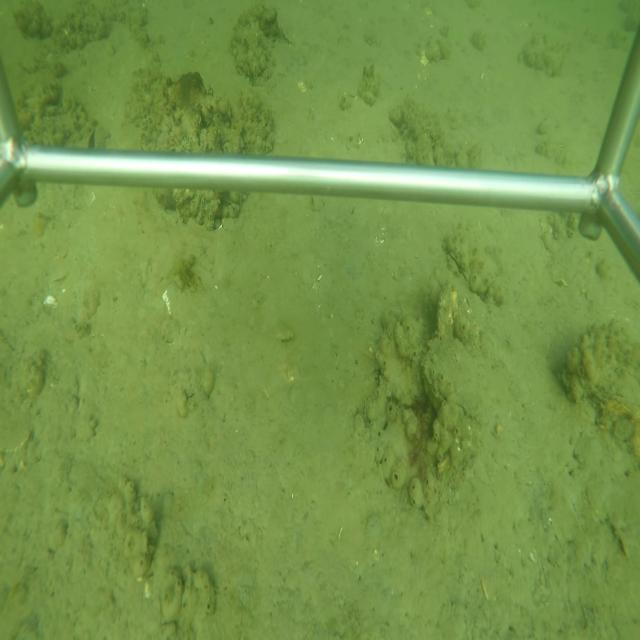Oyster-Closed: (421, 335, 490, 427), (435, 277, 458, 336)
